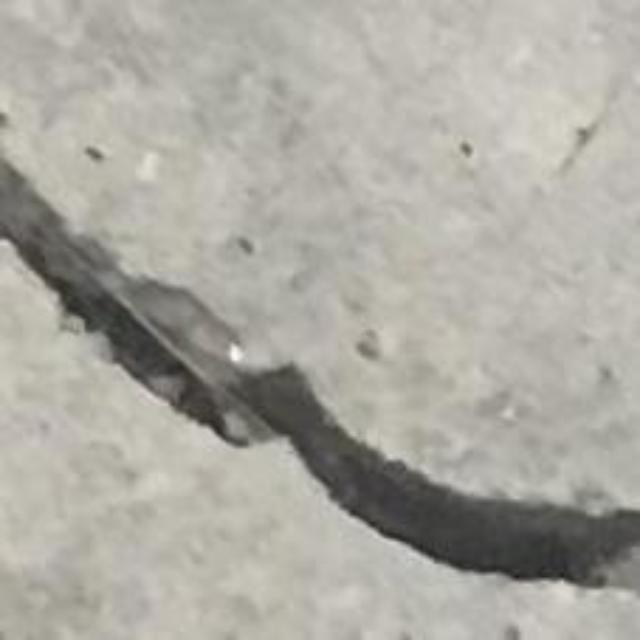crack: (0, 156, 639, 600)
